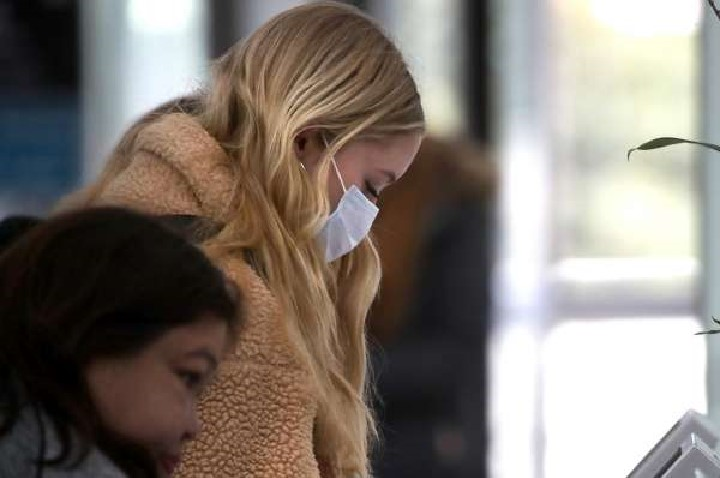face_no_mask: (14, 208, 238, 477)
face_with_mask: (223, 5, 428, 272)
